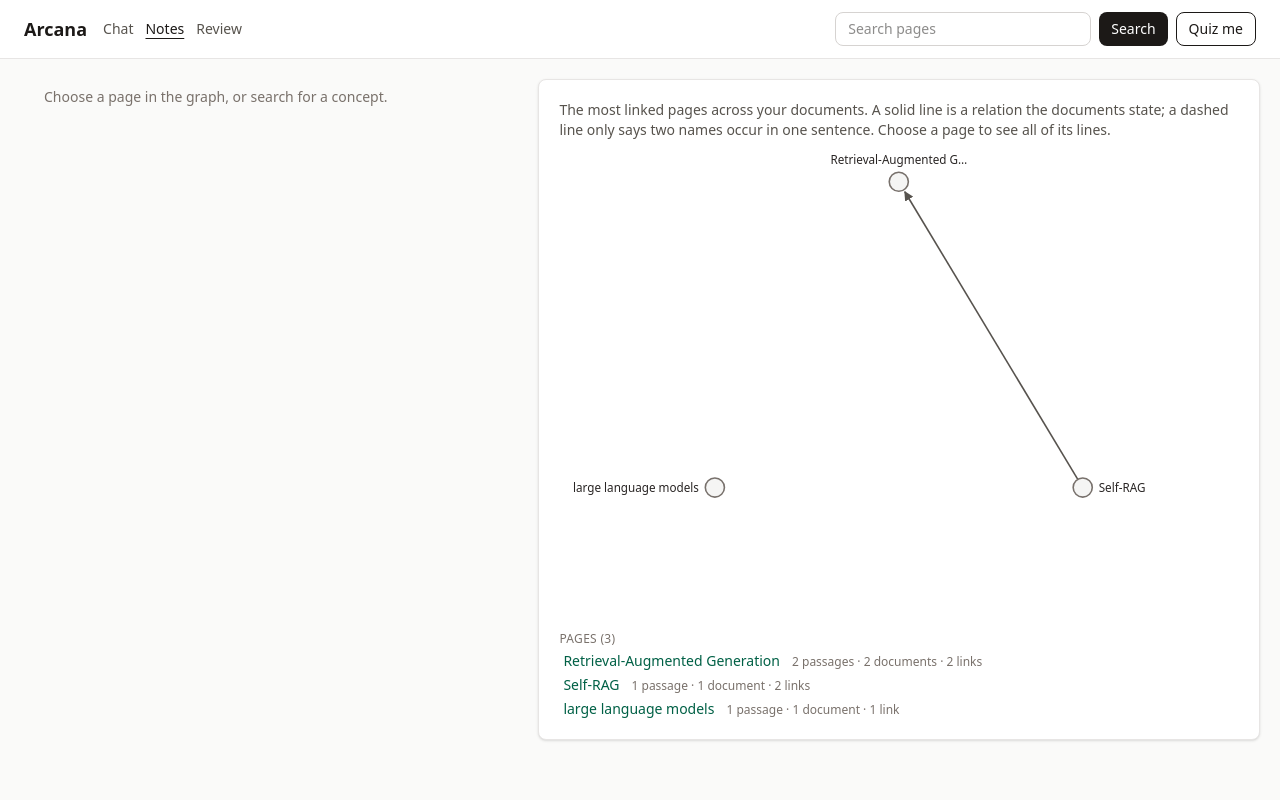
Test: NotesWorkspace: the quiz › 'All pages' leaves the quiz and returns to the notes
Expected: the icon named "Page graph" is shown, [559, 152, 1239, 619]
Click the button "Quiz me" at (1216, 29), box [1176, 12, 1256, 46]
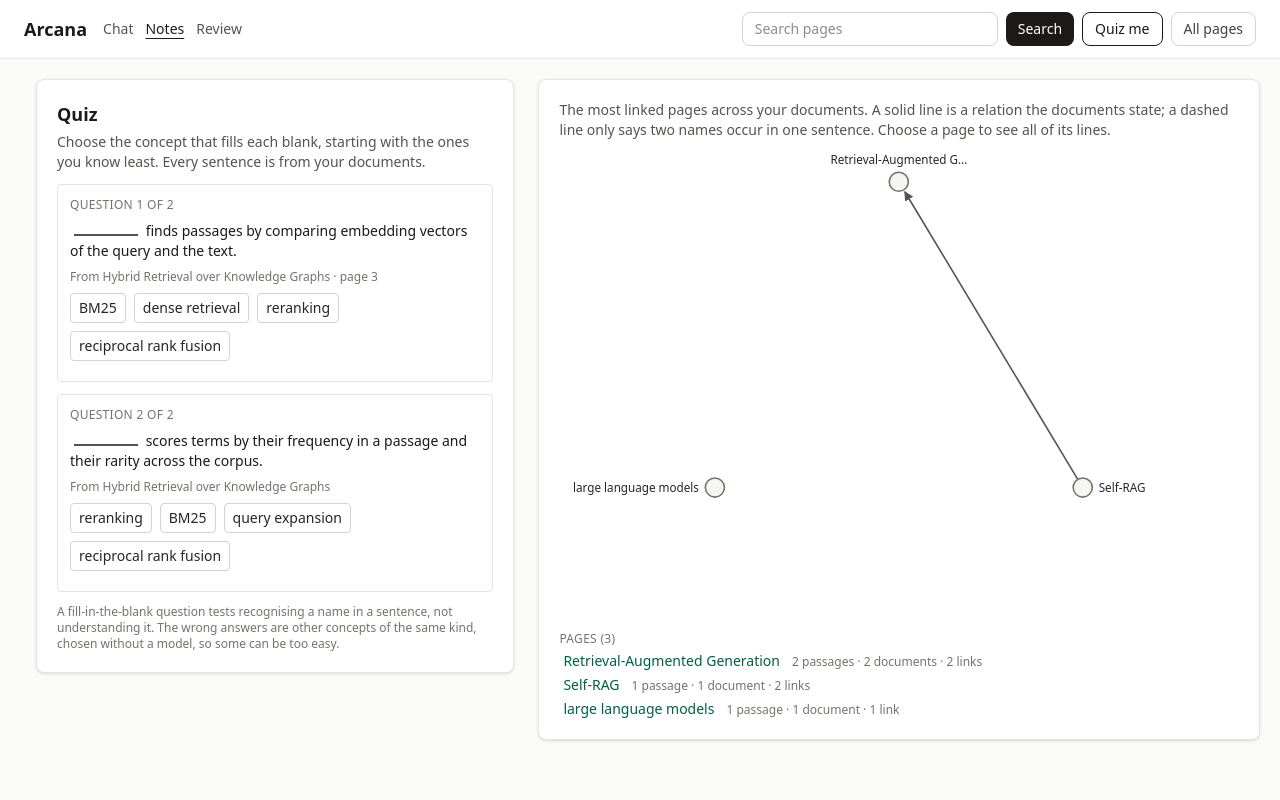
Expected: the element named "Quiz questions" is shown, [57, 100, 493, 652]
Click the button "All pages" at (1213, 29), box [1170, 12, 1256, 46]
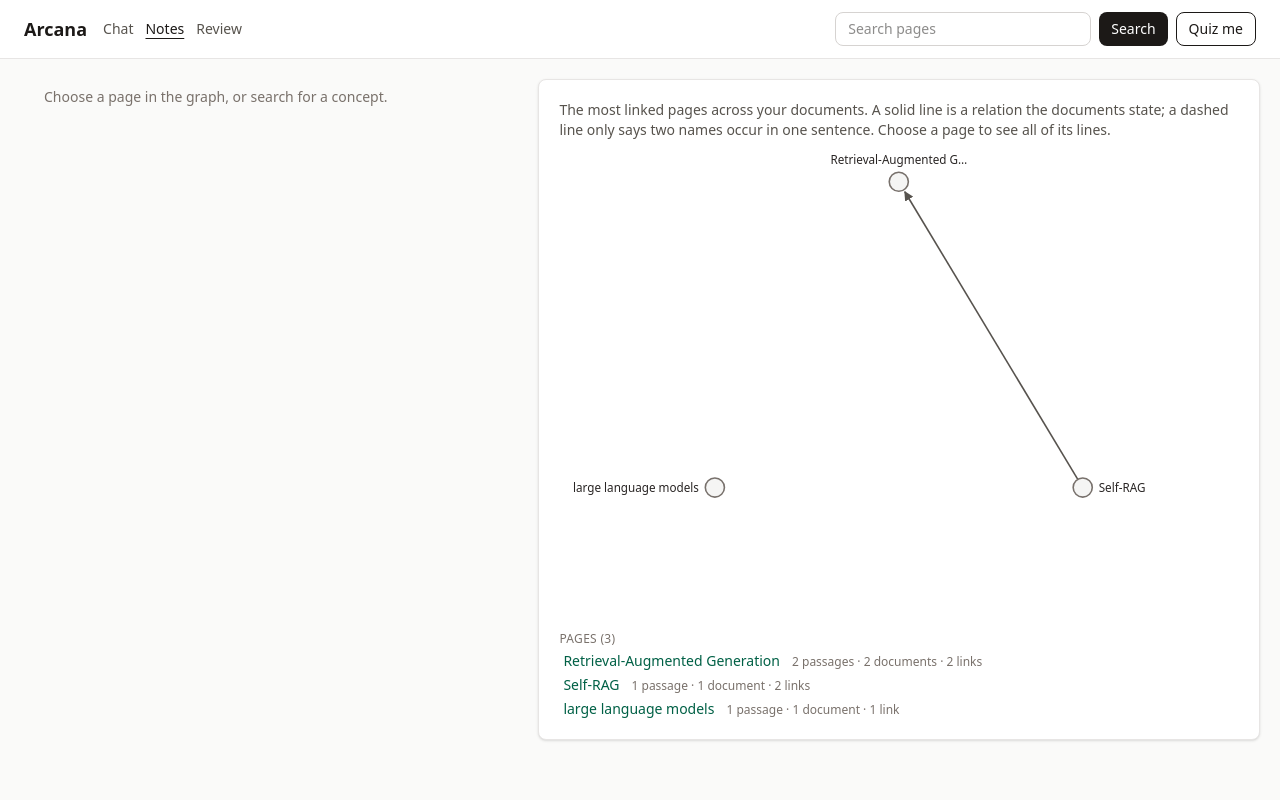
Expected: the text "Choose a page in the graph, or search for a concept." is shown, [44, 87, 388, 106]
